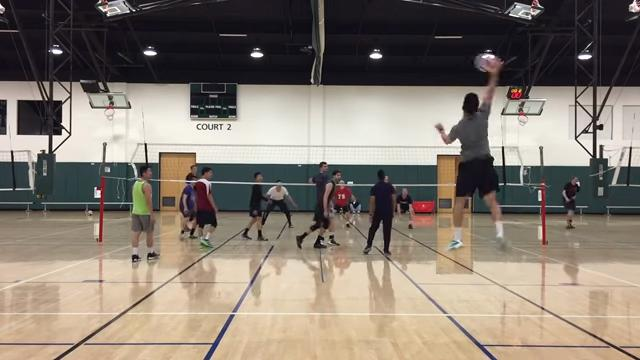battuta: (429, 55, 517, 254)
